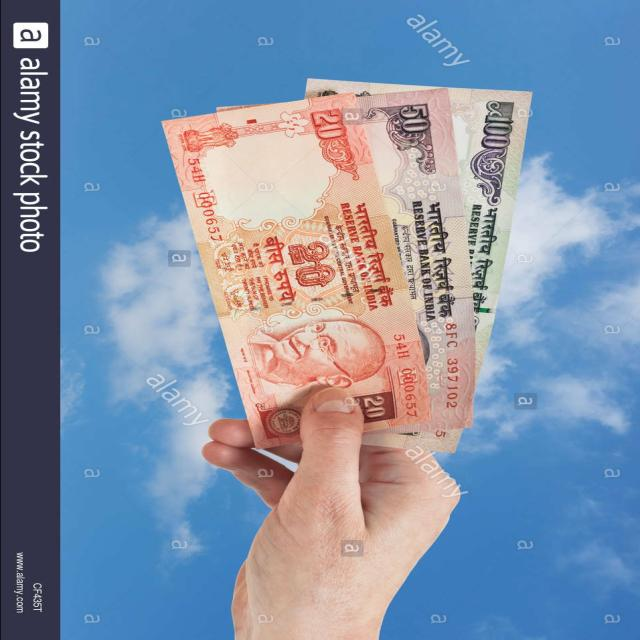20IndianRupees: (166, 87, 442, 455)
